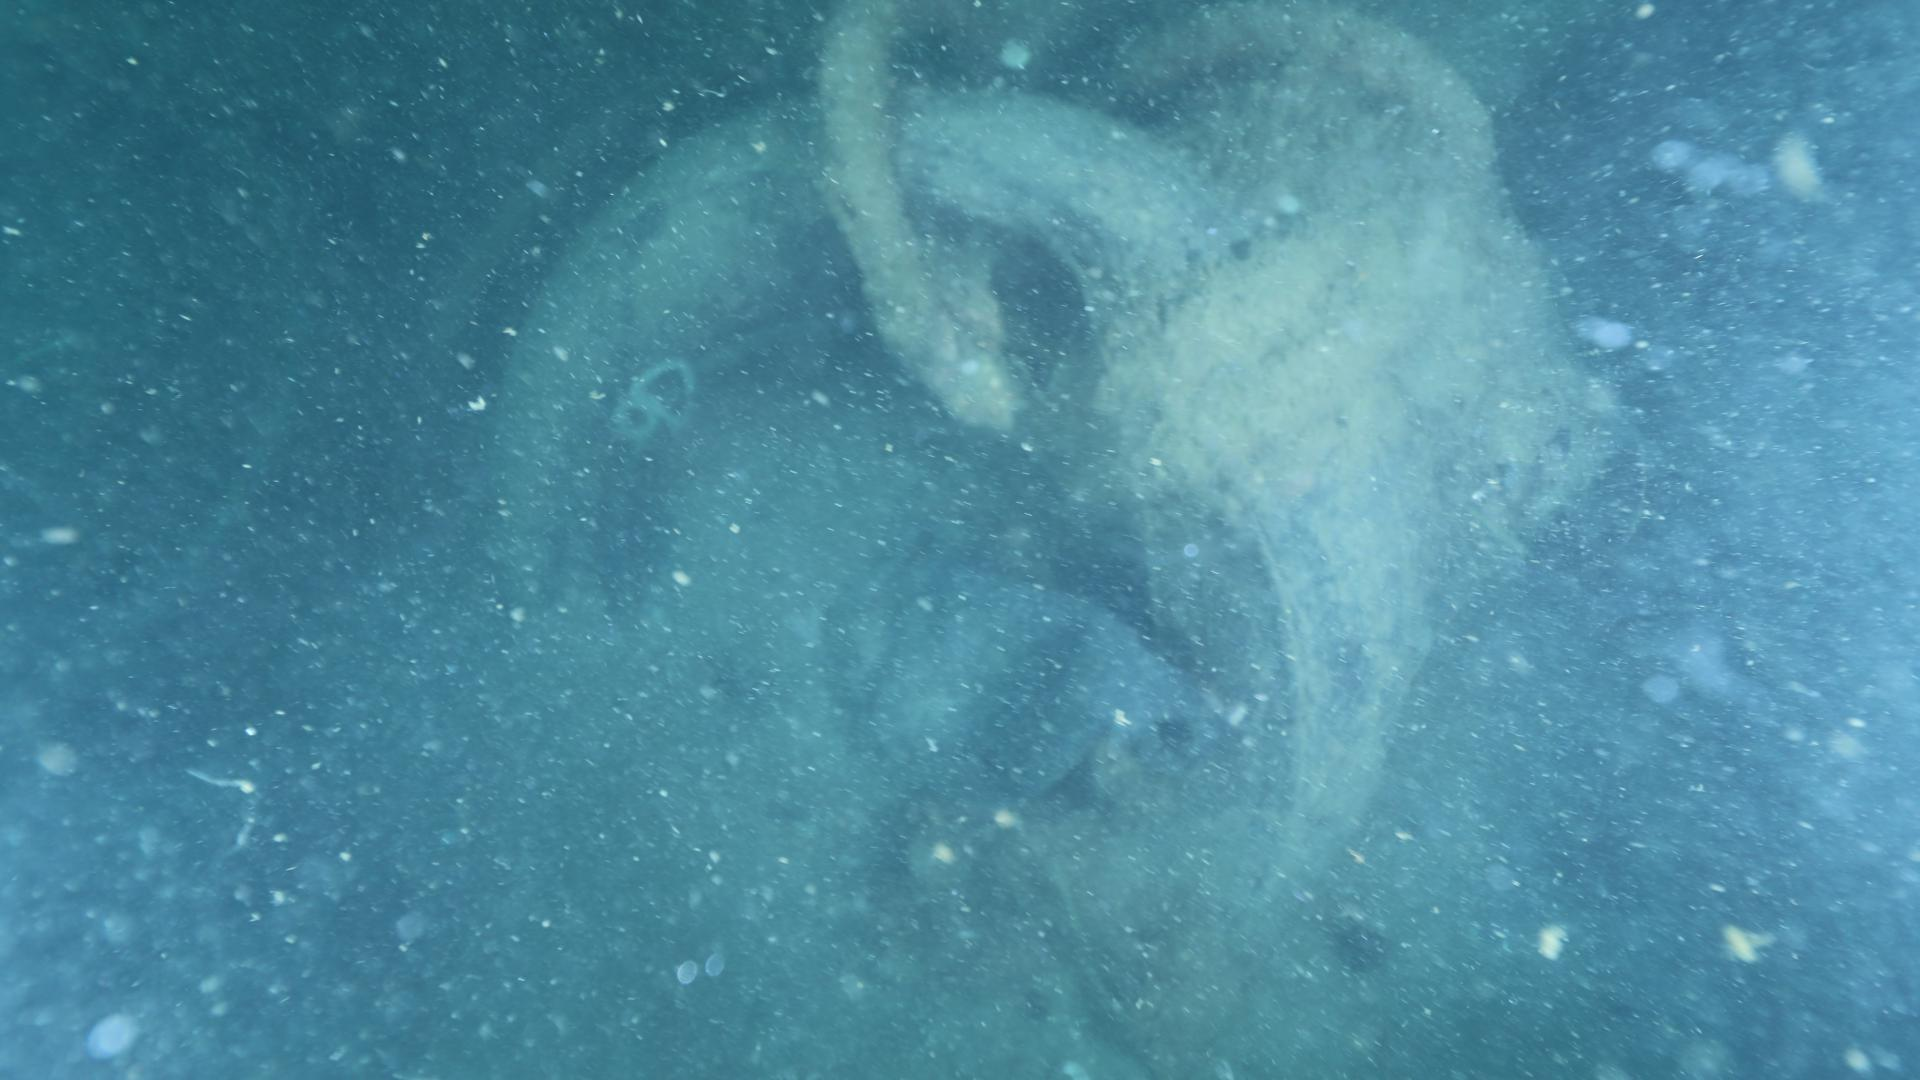tire: (487, 80, 1436, 982)
